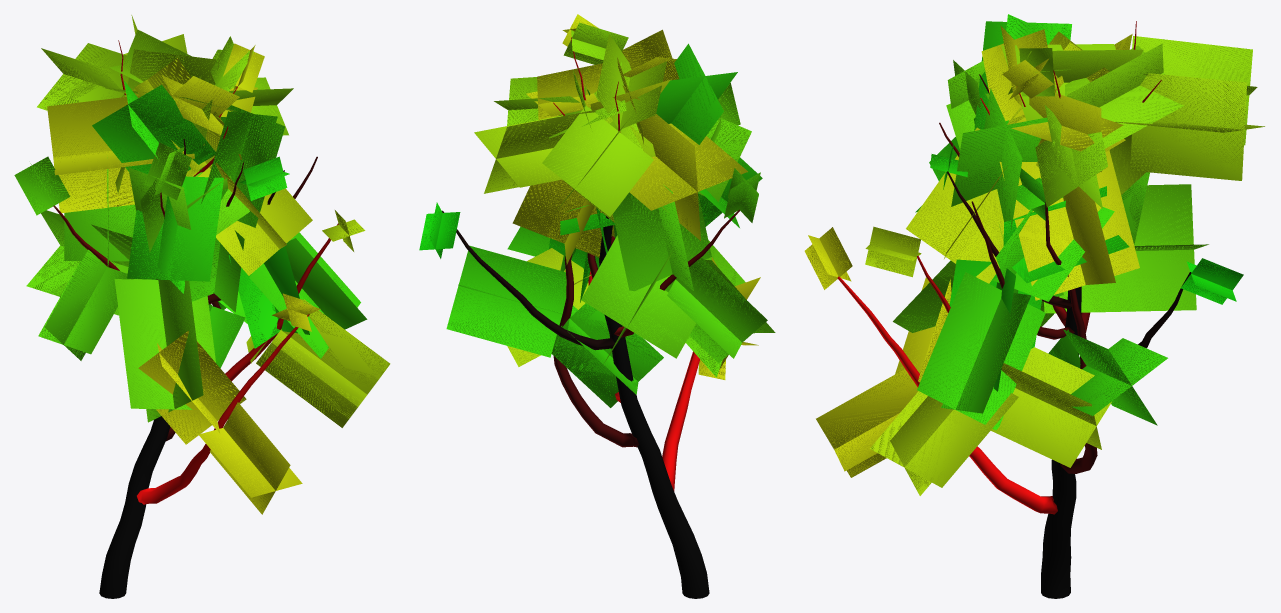
Rendered from Type_1_Tree_10.fbx.
3 renders of one model, left to right at view 1: azimuth 30°, elevation 25°; view 2: azimuth 150°, elevation 25°; view 3: azimuth 270°, elevation 25°, orthographic. The views are drawn at different scales.
Parts seen in each view (by area): view 1: Leaf, Trunk; view 2: Leaf, Trunk; view 3: Leaf, Trunk.
Boxes of the visible parts, x1,y1,x2,y2 form: Leaf: (14,15,390,514); Trunk: (53,40,338,598); Leaf: (419,14,775,407); Trunk: (442,37,739,598); Leaf: (804,14,1264,495); Trunk: (837,21,1191,598).
Bounding box in the file's own units: 1812 × 3093 × 2125.
